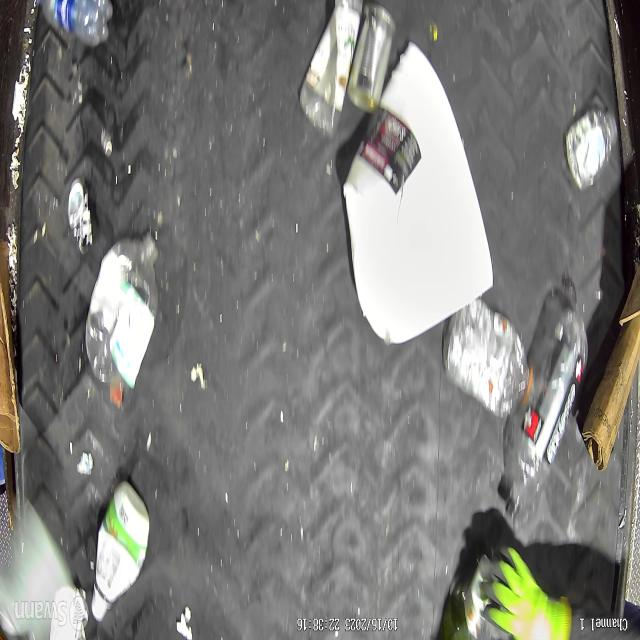can: (346, 2, 396, 114), (65, 178, 92, 254)
plastic_bottle: (505, 308, 588, 521), (81, 230, 158, 406), (441, 296, 534, 417), (299, 0, 364, 137), (564, 103, 617, 193), (38, 0, 116, 50)
